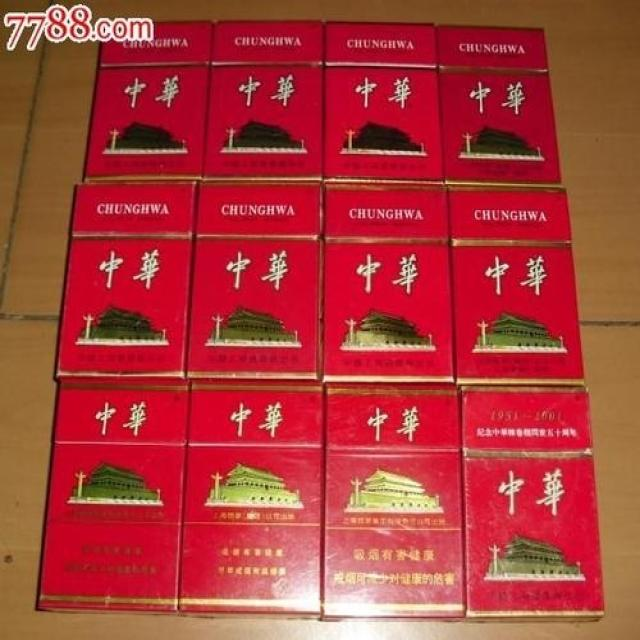box: (36, 386, 188, 613), (458, 383, 604, 619), (178, 386, 326, 614), (321, 387, 466, 618), (52, 179, 200, 386), (184, 179, 325, 390), (323, 180, 457, 394), (447, 183, 586, 389), (435, 22, 563, 187), (82, 21, 212, 180), (320, 19, 445, 181), (201, 19, 324, 180)
